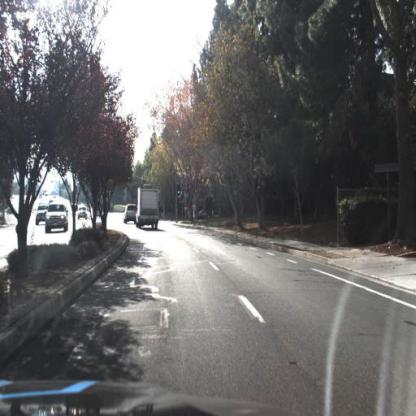car: (43, 201, 68, 236), (122, 202, 140, 228)
truck: (134, 186, 163, 235)
